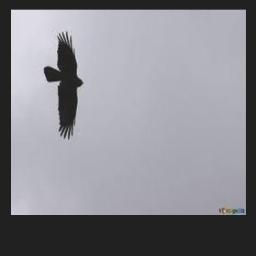Crow: (43, 31, 83, 140)
